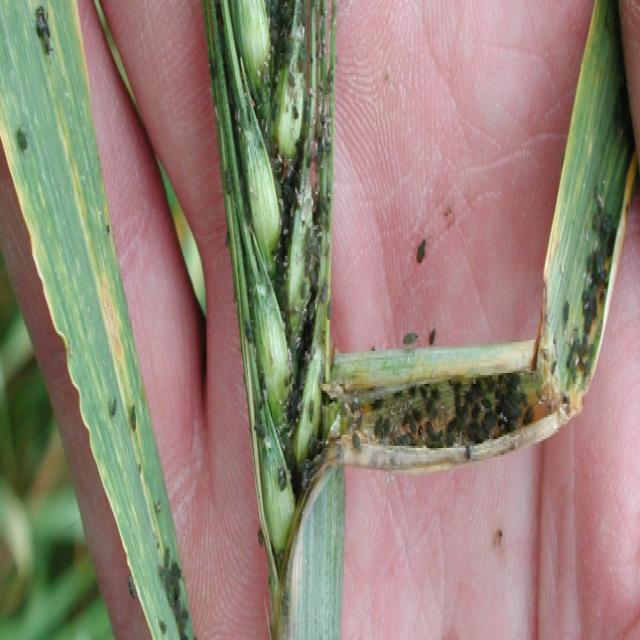Aphid-Grouped-: (214, 2, 355, 488), (368, 326, 536, 469)
